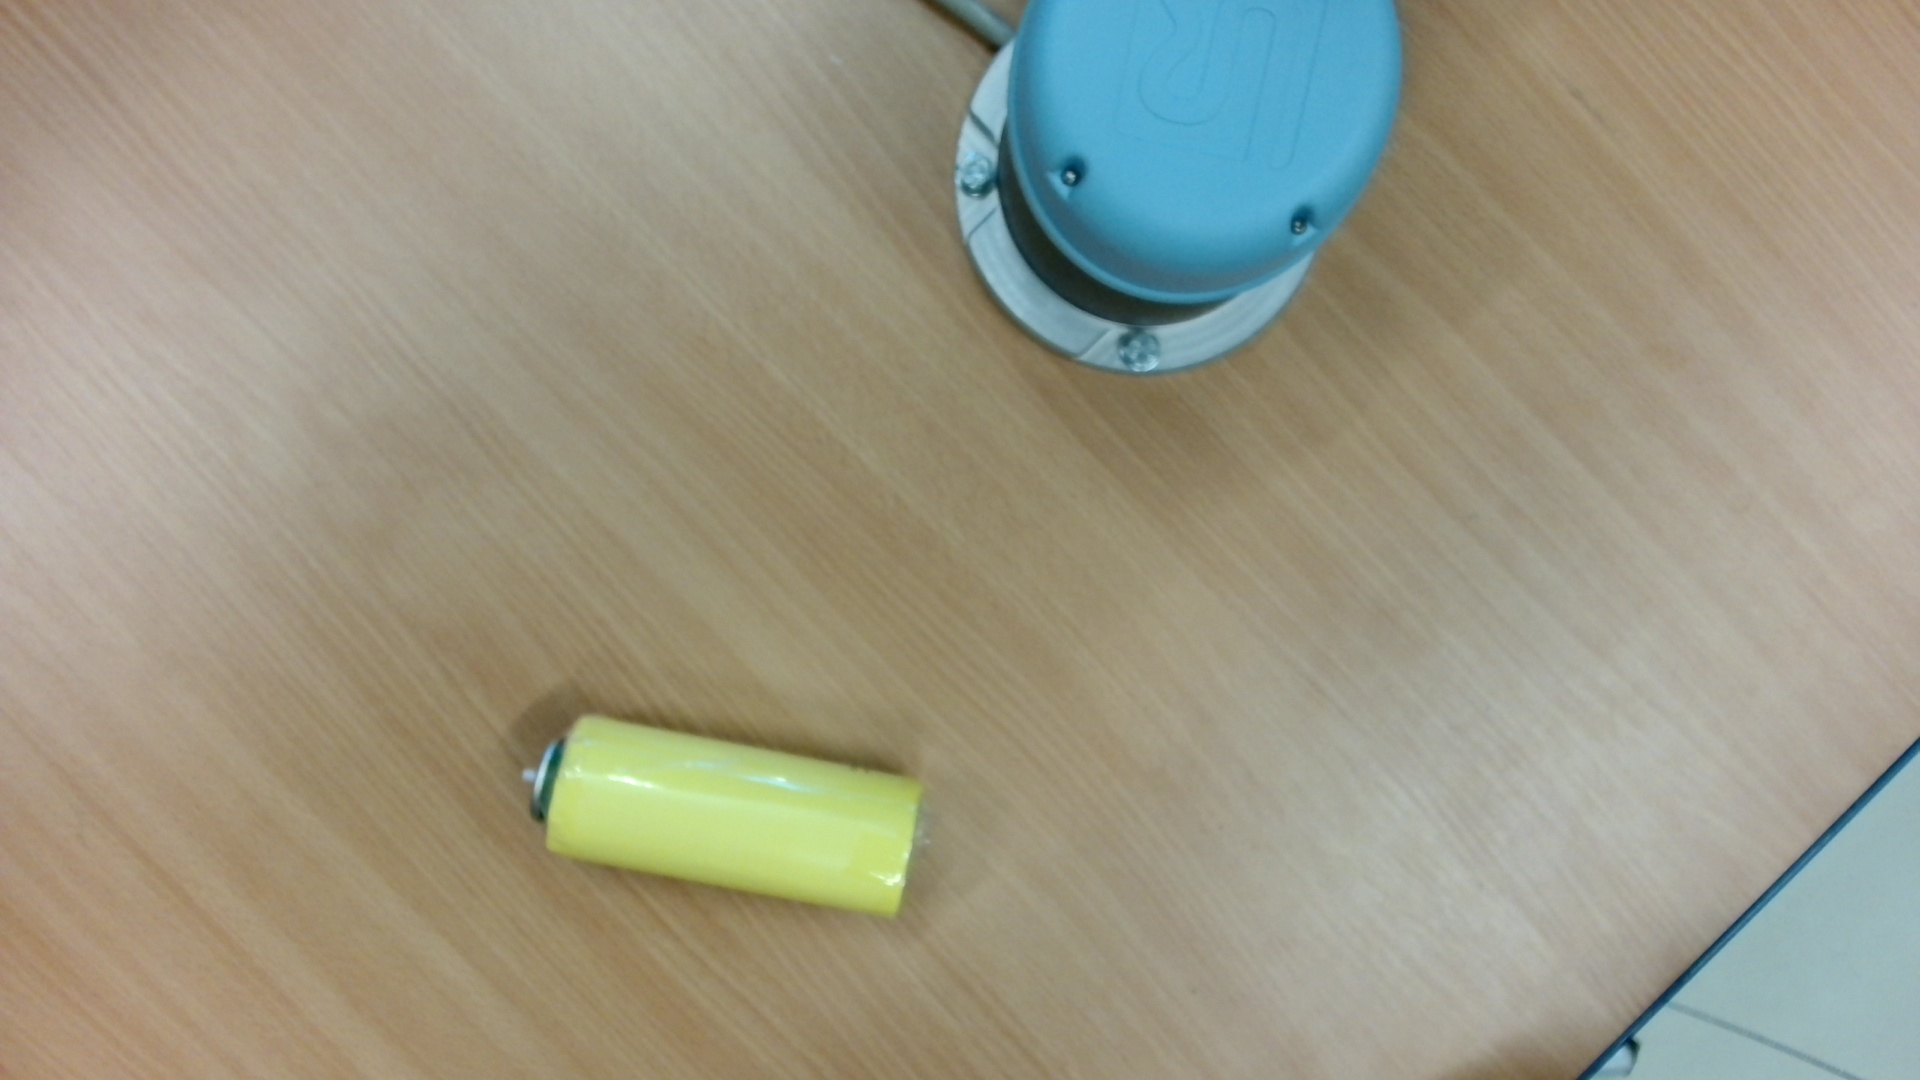Cylinder: (512, 707, 943, 942)
